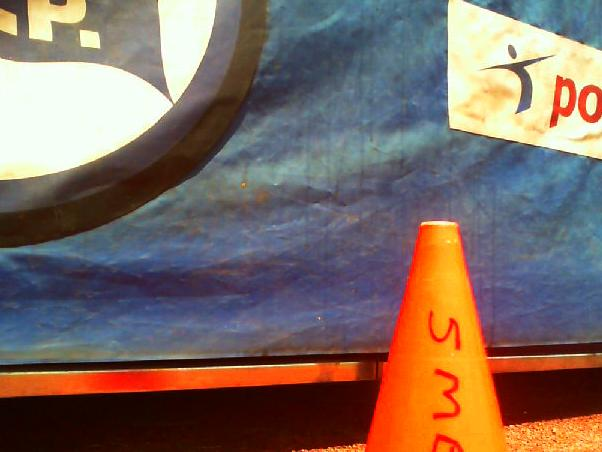0 cone: (359, 222, 513, 452)
